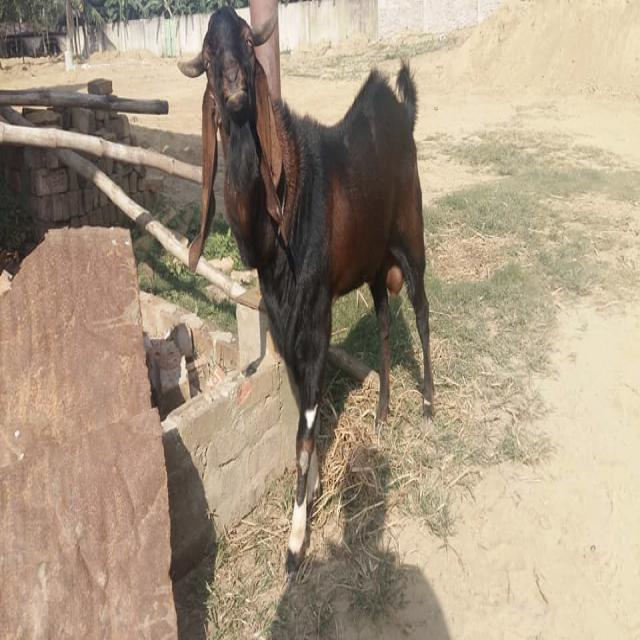Goat: (176, 1, 436, 582)
